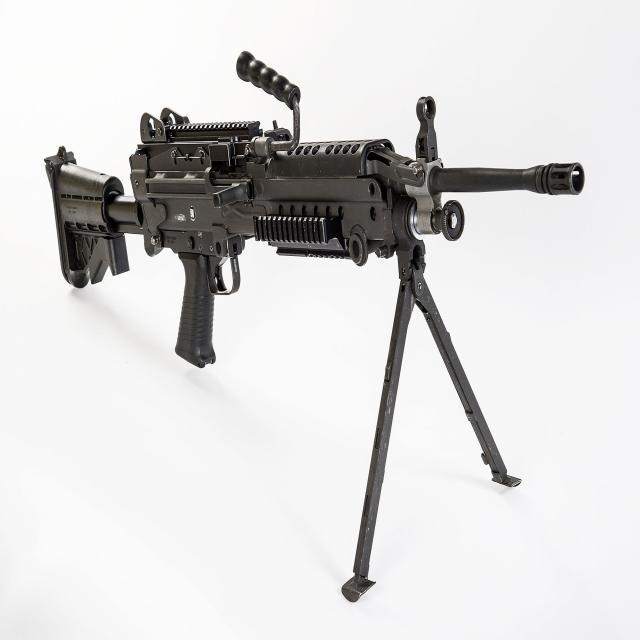machine gun: (40, 33, 592, 611)
